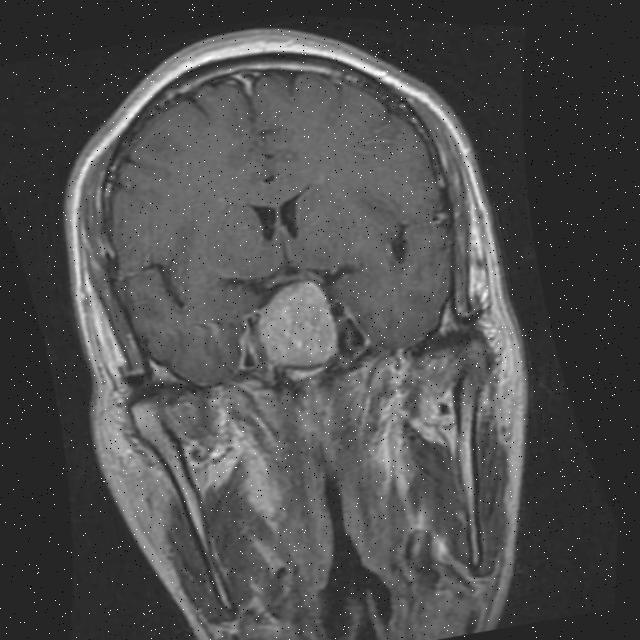Pituitary: (248, 271, 345, 374)
